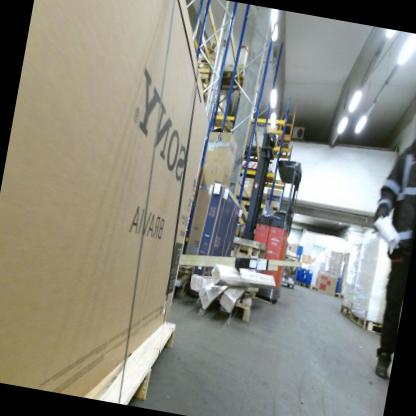forklift: (223, 126, 313, 311)
pallet: (82, 301, 188, 412), (187, 265, 265, 325), (224, 232, 268, 286), (212, 64, 250, 101), (346, 308, 388, 339), (241, 143, 263, 163), (191, 52, 214, 70), (336, 301, 354, 323), (233, 191, 253, 206), (197, 78, 212, 97), (196, 71, 212, 84), (195, 63, 212, 74), (297, 280, 311, 289), (334, 291, 344, 300), (309, 282, 319, 291), (294, 279, 299, 286)
stillage: (279, 251, 302, 288)
